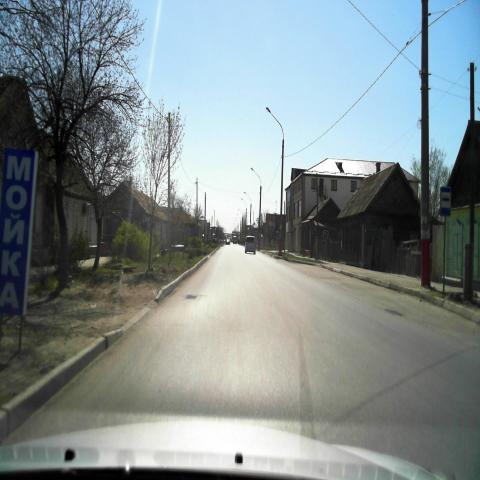5_16: (438, 185, 452, 219)
